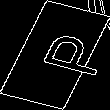P_W: (13, 29, 97, 81)
